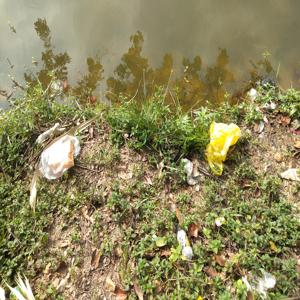plastic: (39, 113, 93, 186), (198, 114, 245, 180), (179, 153, 202, 188)
plastic bottle: (171, 218, 202, 258)
